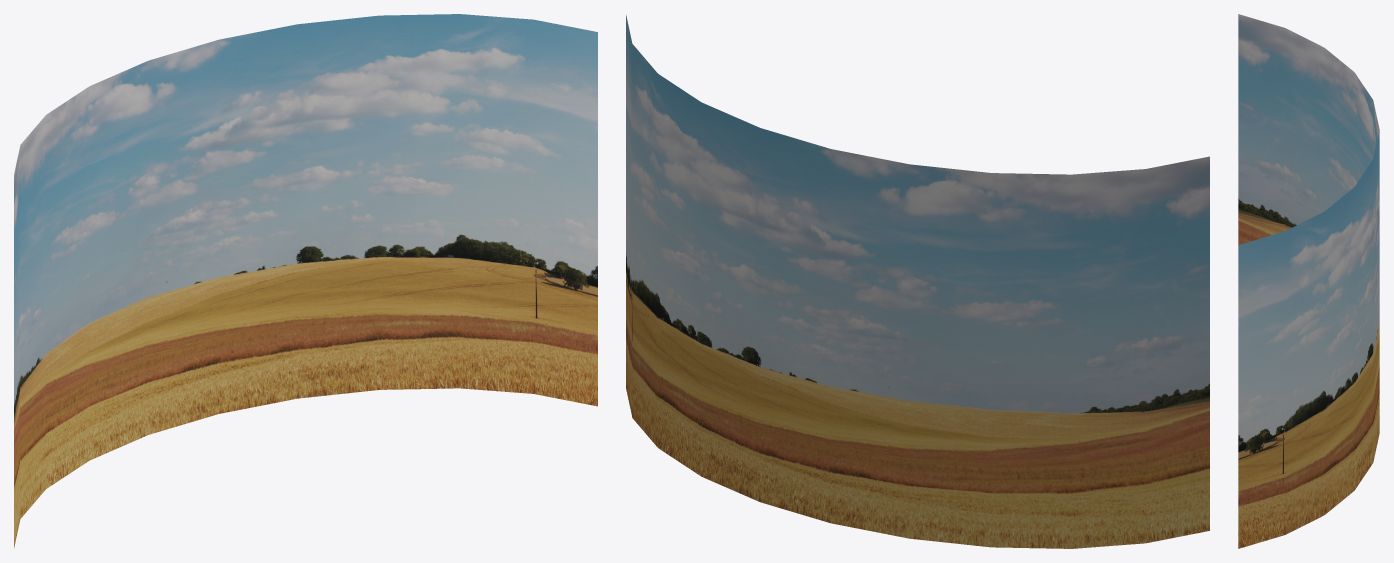
3 views of the same model, side by side, from view 1: azimuth 30°, elevation 25°; view 2: azimuth 150°, elevation 25°; view 3: azimuth 270°, elevation 25° (orthographic). The views are drawn at different scales.
Visible parts, largest first — view 1: SquidGame_Bg; view 2: SquidGame_Bg; view 3: SquidGame_Bg.
Boxes of the visible parts, <box> form: SquidGame_Bg: <box>14,14,597,547</box>; SquidGame_Bg: <box>626,15,1209,548</box>; SquidGame_Bg: <box>1238,14,1379,548</box>.
Bounding box in the file's own units: 665 × 408 × 172.
